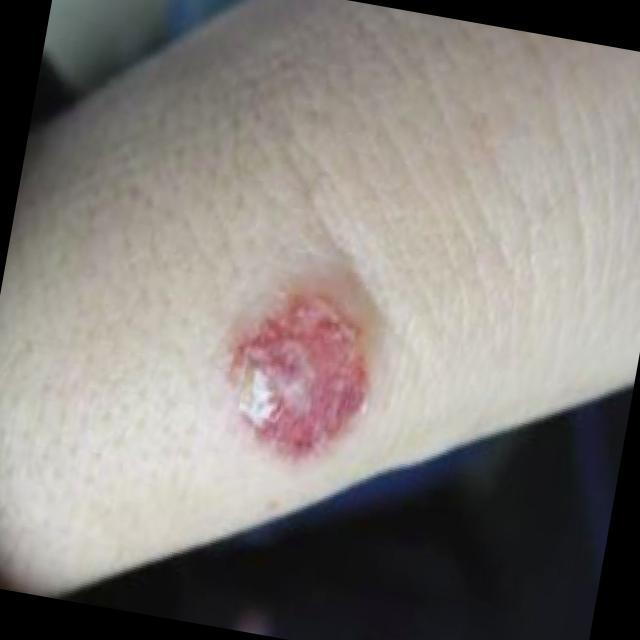Eczema: (212, 286, 374, 472)
